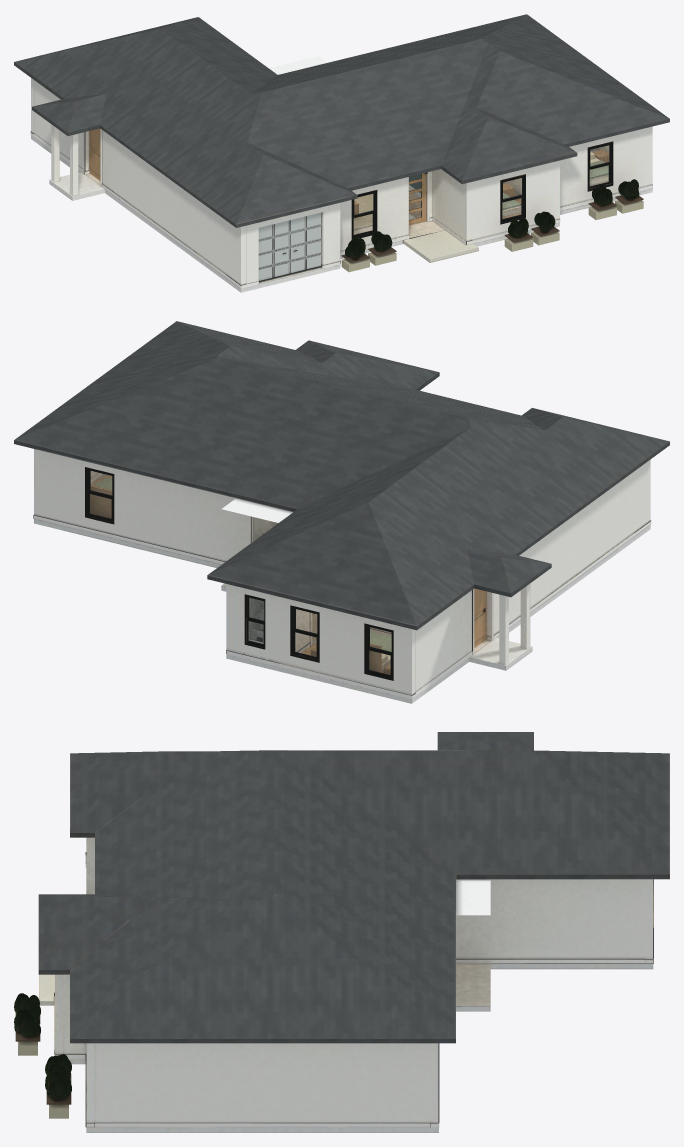
File: utah-baked.glb
3 views of the same model, one above another, from view 1: azimuth 30°, elevation 25°; view 2: azimuth 150°, elevation 25°; view 3: azimuth 270°, elevation 25° (orthographic). The views are drawn at different scales.
Parts seen in each view (by area): view 1: Roof, House, Utah · vidrio claro; view 2: Roof, House, Utah · vidrio claro; view 3: Roof, House.
Boxes of the visible parts, bbox=[...] form: Roof: bbox=[14, 14, 669, 227]; House: bbox=[30, 78, 652, 292]; Utah · vidrio claro: bbox=[354, 146, 608, 234]; Roof: bbox=[14, 321, 669, 630]; House: bbox=[33, 390, 651, 703]; Utah · vidrio claro: bbox=[90, 471, 390, 674]; Roof: bbox=[38, 732, 669, 1043]; House: bbox=[14, 837, 653, 1132].
Bounding box in the file's own units: 17.58 × 4.59 × 15.88.
Materials: 4 (1 with a texture image).
